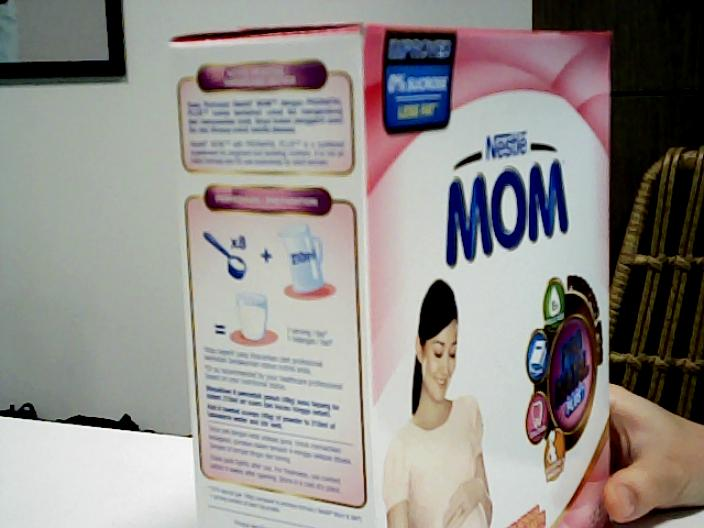MaternalMilkPowder_600-699g_Halal_NonHealthy: (187, 43, 605, 523)
